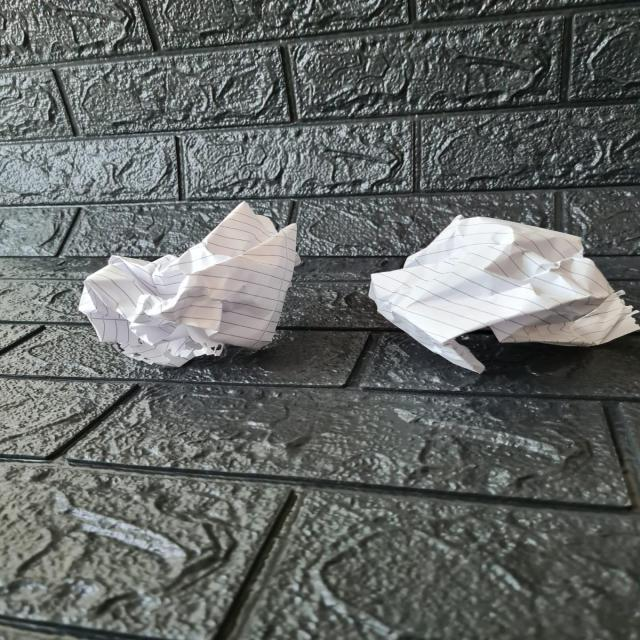trash: (357, 216, 639, 368), (72, 200, 300, 368)
